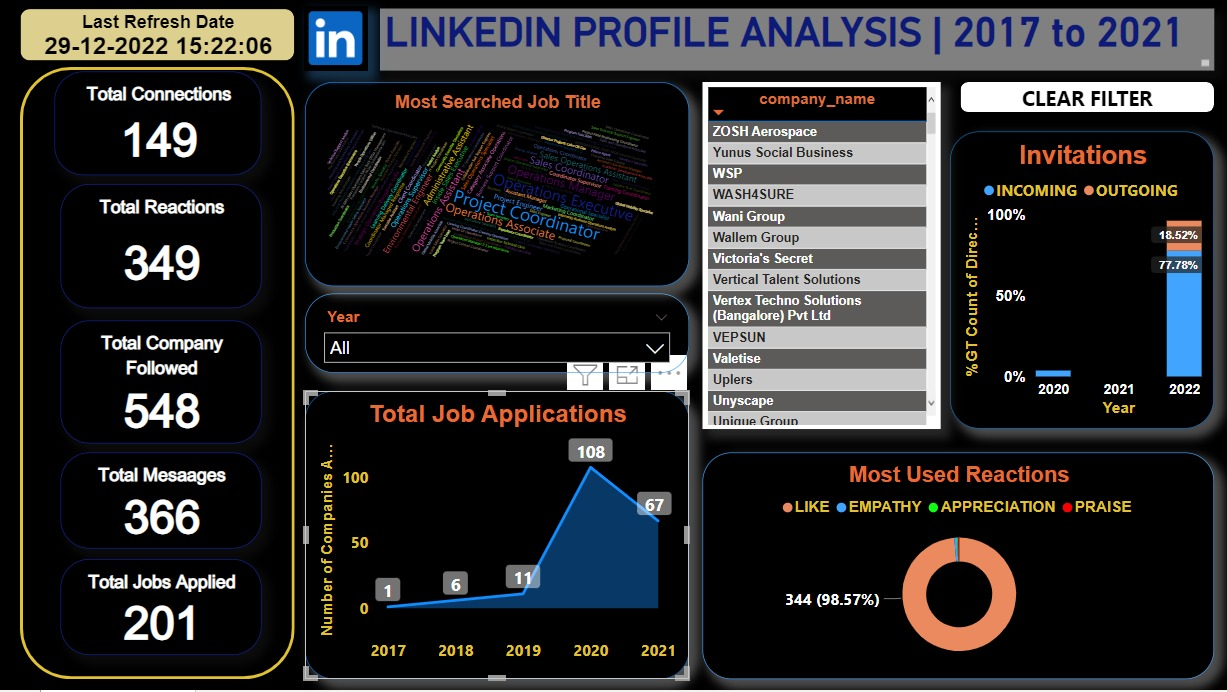

Layout of this report page (visuals, bound fields, positions):
{"tool":"powerbi","page":{"name":"Dash Board","canvas":[1280,720],"ordinal":0},"visuals":[{"type":"actionButton","box":[21.9,71.8,285.8,637.2],"z":0},{"type":"card","title":"Total Connections","fields":{"Values":["Count(Connections.First Name)"]},"box":[57.8,76.5,215.5,107.8],"z":1000},{"type":"card","title":"Total Reactions","fields":{"Values":["Count(Reactions.Link)"]},"box":[64,193.7,209.3,129.6],"z":2000},{"type":"card","title":"Total Company Followed","fields":{"Values":["CountNonNull(Company Follows.Column1)"]},"box":[64,335.8,209.3,128.1],"z":3000},{"type":"card","title":"Total Mesaages","fields":{"Values":["CountNonNull(messages.Column6)"]},"box":[64,473.2,209.3,100],"z":4000},{"type":"card","title":"Total Jobs Applied","fields":{"Values":["CountNonNull(Job Applications.Column1)"]},"box":[64,584.1,209.3,100],"z":5000},{"type":"lineStackedColumnComboChart","title":"Invitations","fields":{"Category":["Invitations.Year"],"Y":["CountNonNull(Invitations.Direction)"],"Series":["Invitations.Direction"]},"box":[990.2,139,274.9,309.2],"z":6000},{"type":"stackedAreaChart","title":"Total Job Applications","fields":{"Category":["Linkedin_job_Status.year_t"],"Y":["CountNonNull(Linkedin_job_Status.company_name)"]},"box":[318.6,409.2,399.8,299.9],"z":7000},{"type":"slicer","title":"Ye","fields":{"Values":["Linkedin_job_Status.year_t"]},"box":[318.6,307.7,399.8,82.8],"z":8000},{"type":"donutChart","title":"Most Used Reactions","fields":{"Category":["Reactions.Type"],"Y":["CountNonNull(Reactions.Date)"],"Series":["Reactions.Type"]},"box":[732.5,473.2,532.6,235.8],"z":9000},{"type":"textbox","title":"LINKEDIN  PROFILE ANALYSIS | 2017 to 2021","box":[397.1,11.1,868.6,64.9],"z":10000},{"type":"WordCloud1447959067750","title":"Most Searched Job Title","fields":{"Values":["CountNonNull(Linkedin_job_Status.Job Title)"],"Category":["Linkedin_job_Status.Job Title"]},"box":[318.6,87.5,399.8,212.4],"z":11000},{"type":"image","box":[316.4,7.9,66.5,68],"z":12000},{"type":"tableEx","fields":{"Values":["Linkedin_job_Status.company_name"]},"box":[732.3,86.8,247.8,361.4],"z":13000},{"type":"shape","box":[1001.1,87.5,263.9,31.2],"z":14000},{"type":"card","title":"Last Refresh Date","fields":{"Values":["Min(Query1.Column1)"]},"box":[21.9,10.9,285.8,54.7],"z":15001}]}

Visuals, with their boxes in screenshot pixels (x1, y1, x2, y2), scaled from the page's 1280x720 canvas onto the 1227x692 screenshot:
actionButton: (21,69,295,681)
"Total Connections" card: (55,74,262,177)
"Total Reactions" card: (61,186,262,311)
"Total Company Followed" card: (61,323,262,446)
"Total Mesaages" card: (61,455,262,551)
"Total Jobs Applied" card: (61,561,262,657)
"Invitations" lineStackedColumnComboChart: (949,134,1213,431)
"Total Job Applications" stackedAreaChart: (305,393,689,682)
"Ye" slicer: (305,296,689,375)
"Most Used Reactions" donutChart: (702,455,1213,681)
"LINKEDIN  PROFILE ANALYSIS | 2017 to 2021" textbox: (381,11,1213,73)
"Most Searched Job Title" WordCloud1447959067750: (305,84,689,288)
image: (303,8,367,73)
tableEx - Linkedin_job_Status.company_name: (702,83,940,431)
shape: (960,84,1213,114)
"Last Refresh Date" card: (21,10,295,63)
